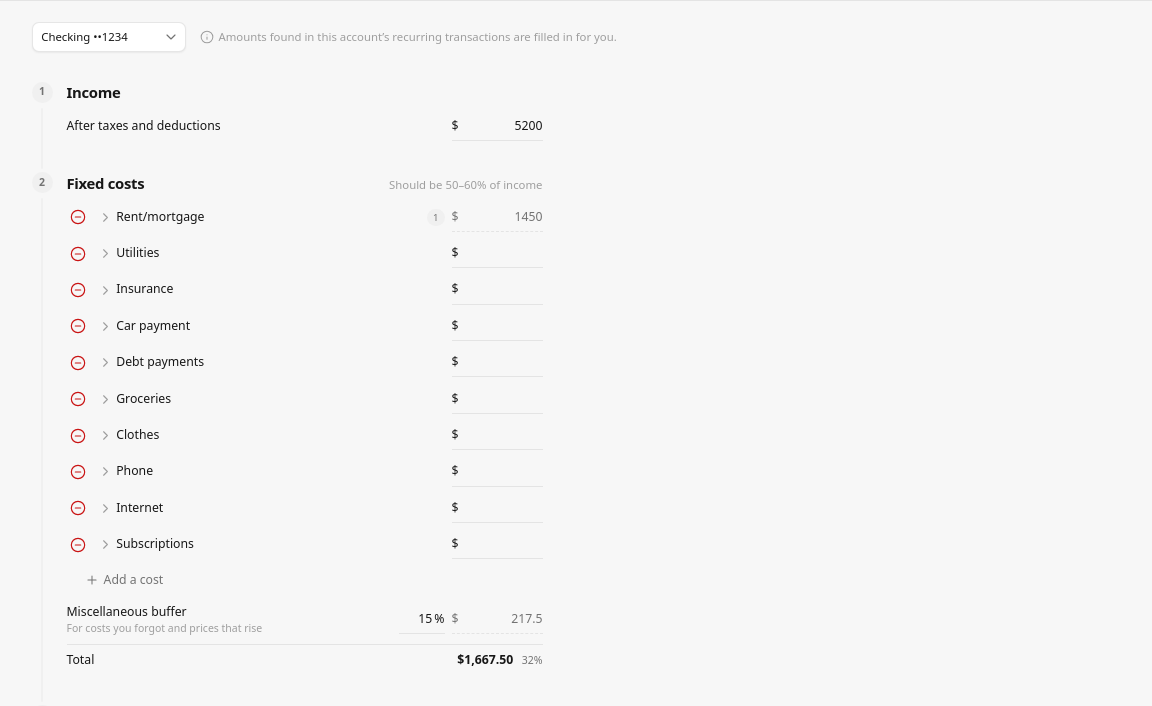
Test: spending plan setup › reloads estimates when you pick another account
Select "Savings ••5678" in the dropdown named "Account" at {"x": 108, "y": 37}, box [32,22,186,52]
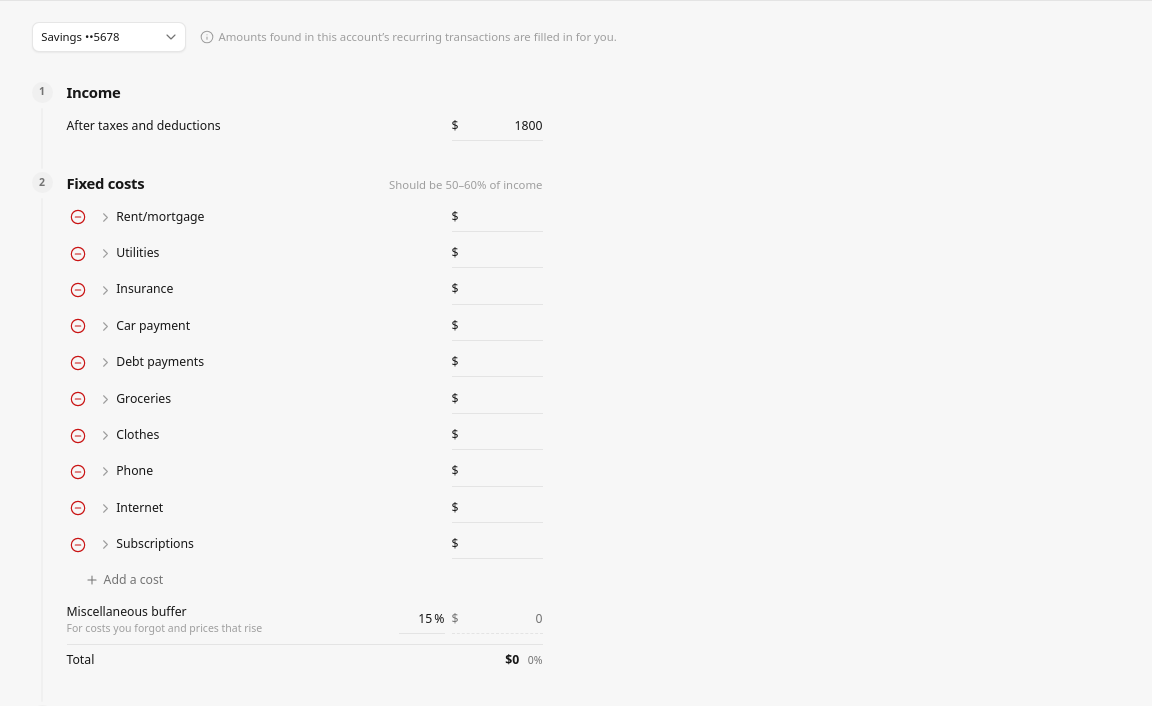
Expected: the field named "Rent/mortgage amount" is empty, [461,208,542,226]
Expected: the field with id "take-home-income" holds "1800", [461,117,542,135]
